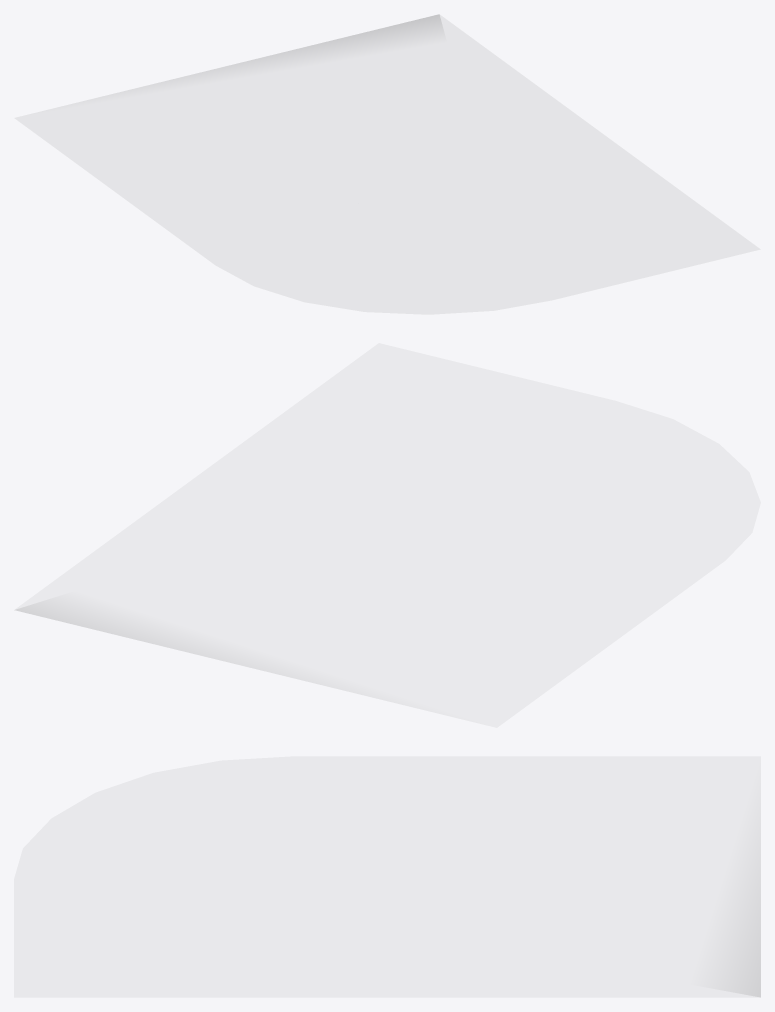
3 views of the same model, one above another, from view 1: azimuth 30°, elevation 25°; view 2: azimuth 150°, elevation 25°; view 3: azimuth 270°, elevation 25° (orthographic). The views are drawn at different scales.
Parts seen in each view (by area): view 1: Joint_0_Object_0; view 2: Joint_0_Object_0; view 3: Joint_0_Object_0.
Part boxes in pixels (<box>): Joint_0_Object_0: <box>145,14,443,86</box>; Joint_0_Object_0: <box>16,597,349,691</box>; Joint_0_Object_0: <box>710,827,760,997</box>.
Bounding box in the file's own units: 2439 × 0 × 3192.
Materials: 1 (1 with a texture image).
